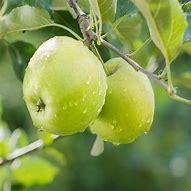apple: (20, 39, 106, 132), (80, 55, 167, 145)
